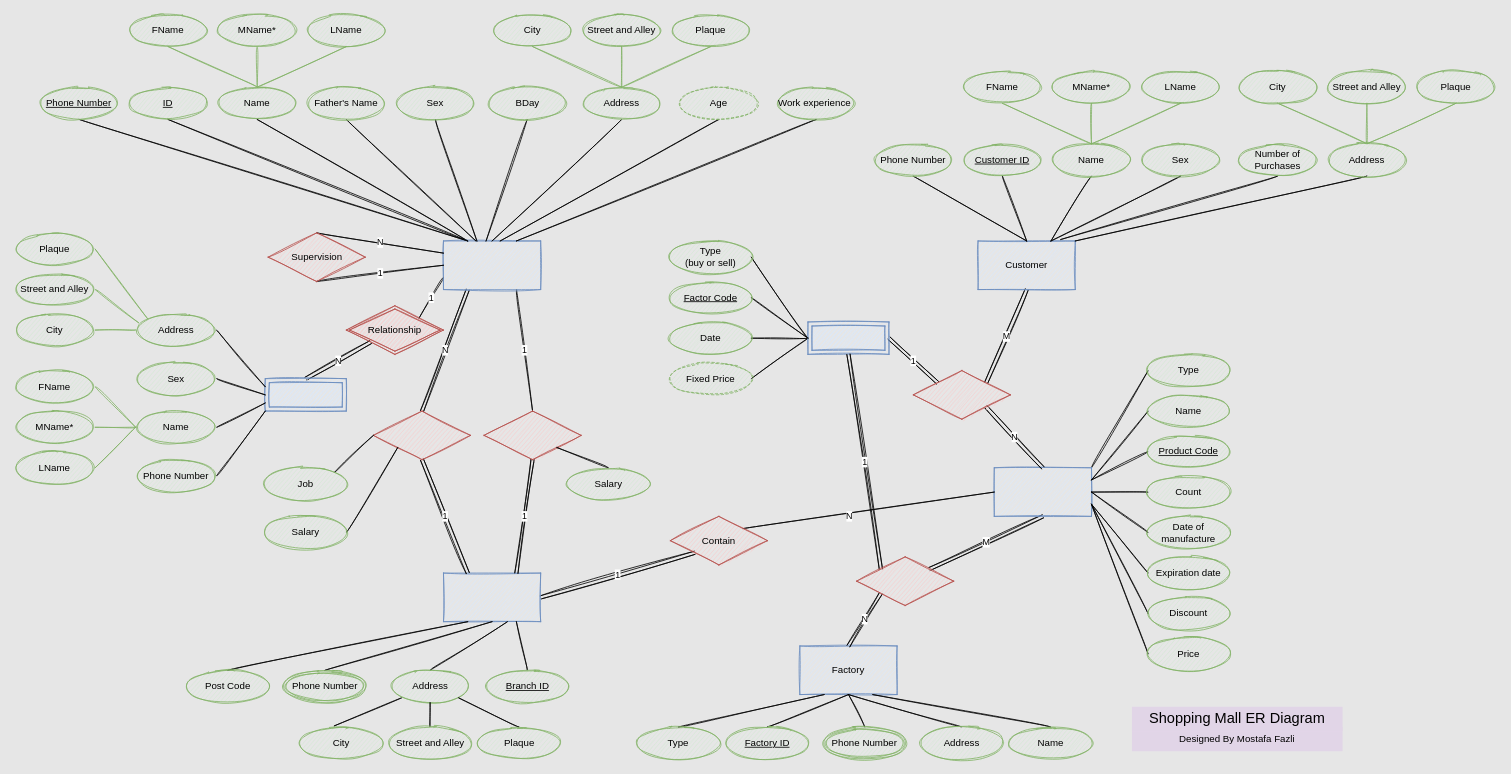
The diagram is 1511 pixels wide and 774 high, and some of its shapes have lost their labels. The shapes that lost their labels are listed below. From the top down, each one's centre as x and y in pixels, then its label:
At (x=492, y=265): "Employee".
At (x=848, y=337): "Factor".
At (x=305, y=394): "Family".
At (x=961, y=394): "Buy".
At (x=422, y=435): "Works for".
At (x=532, y=435): "Manage of".
At (x=1042, y=491): "Product".
At (x=492, y=597): "Branch".
At (x=905, y=580): "Produce".
